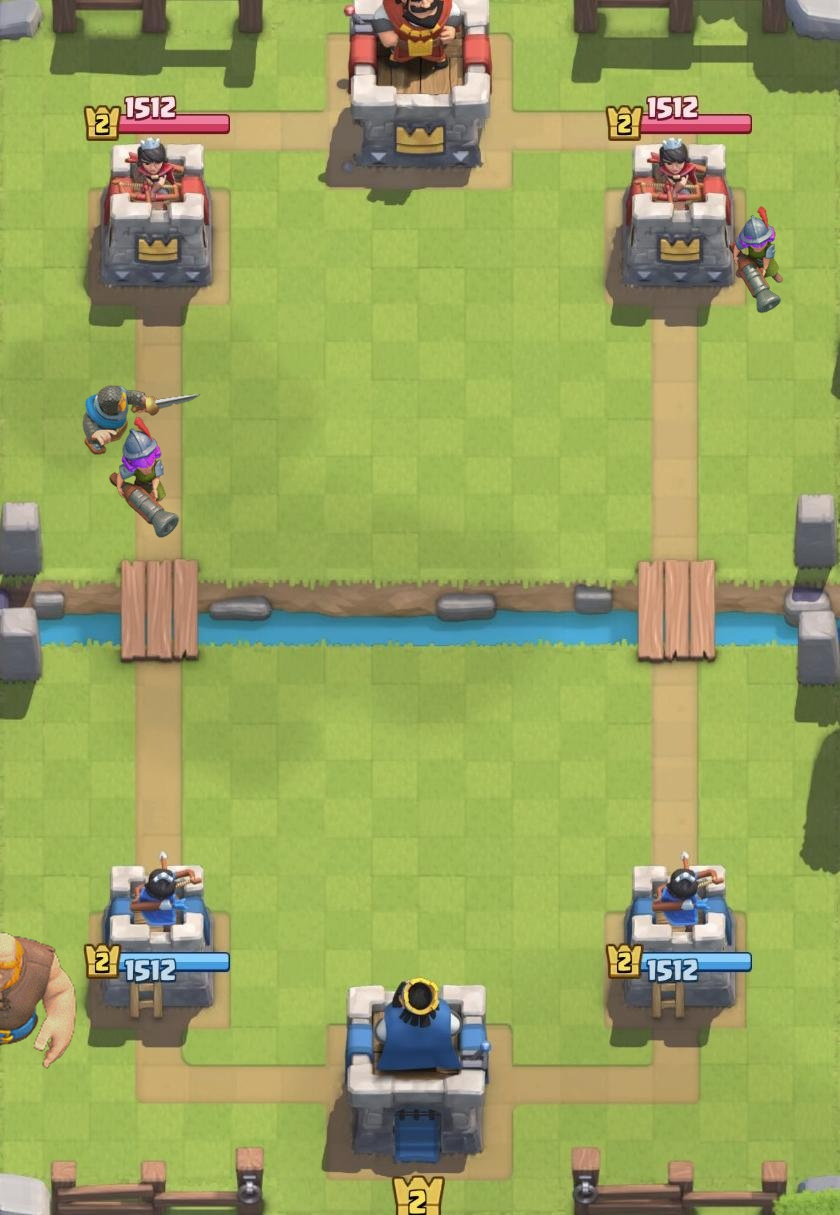giant_ally: (0, 931, 77, 1069)
knight_ally: (82, 385, 201, 455)
musketeer_enemy: (109, 416, 180, 538), (729, 206, 783, 314)
